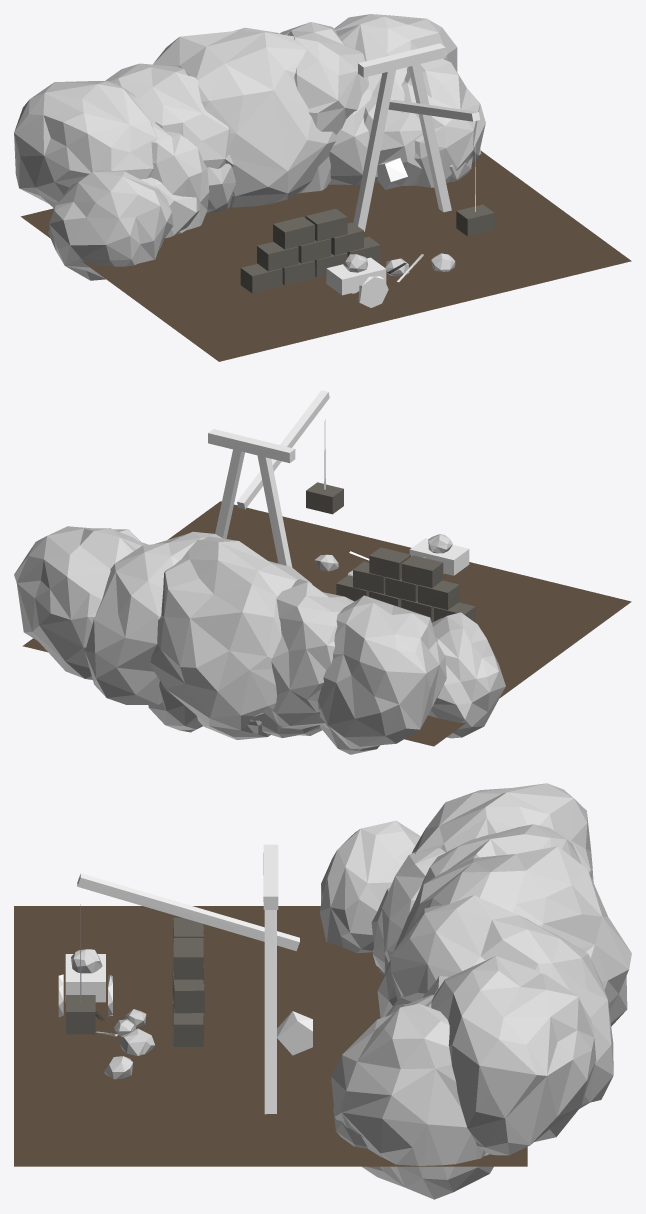
File: ocak.glb
3 views of the same model, one above another, from view 1: azimuth 30°, elevation 25°; view 2: azimuth 150°, elevation 25°; view 3: azimuth 270°, elevation 25° (orthographic). The views are drawn at different scales.
Parts seen in each view (by area): view 1: Araba; view 2: Araba; view 3: Araba.
Boxes of the visible parts, x1,y1,x2,y2 form: Araba: (14, 14, 631, 361); Araba: (14, 390, 631, 754); Araba: (14, 783, 631, 1199).
Size of the model in its own units: 1 by 0.4706 by 0.9541.
